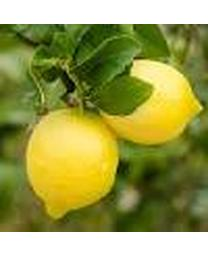lemon: (28, 107, 116, 217), (100, 57, 203, 145)
